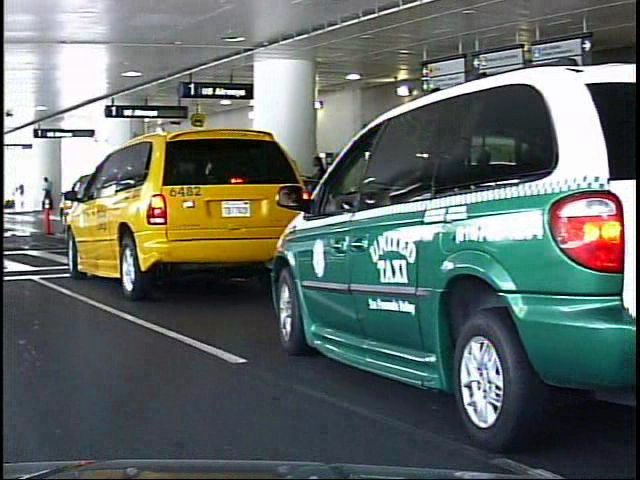person: (37, 175, 50, 199)
